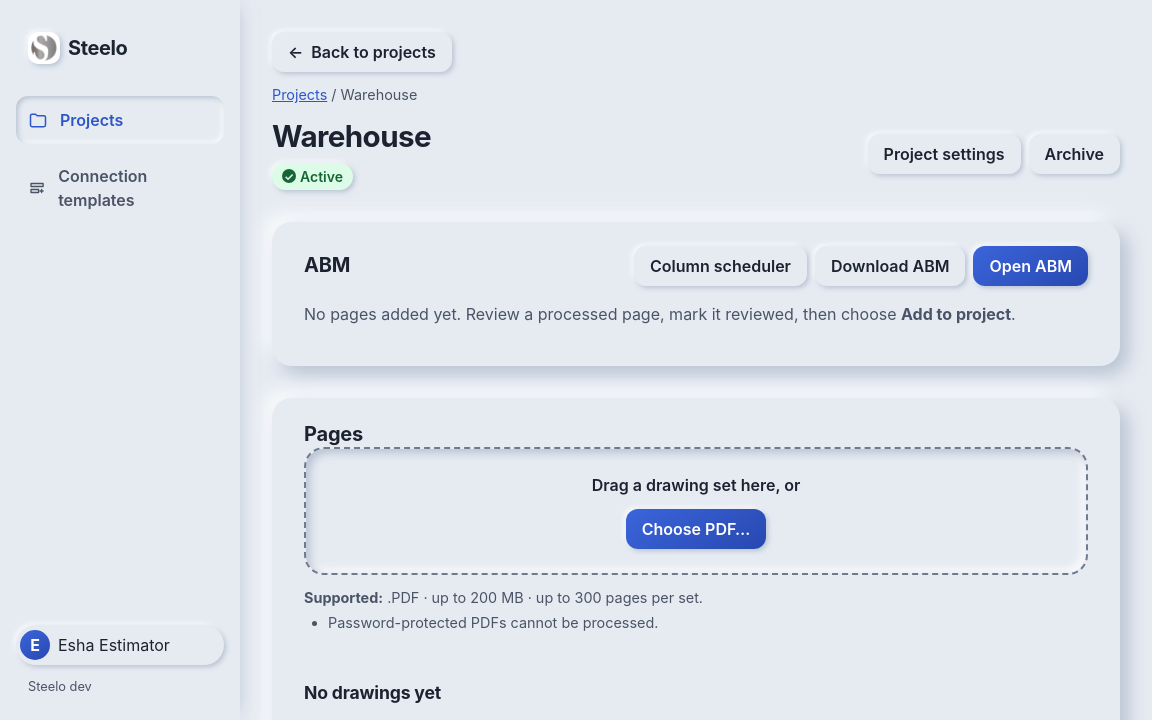
Project details › explains a conflicting edit and lets the user retry on the latest version
Step 1. Click the button "Project settings" → (944, 154), box [868,134,1020,174]
(page scrolled)
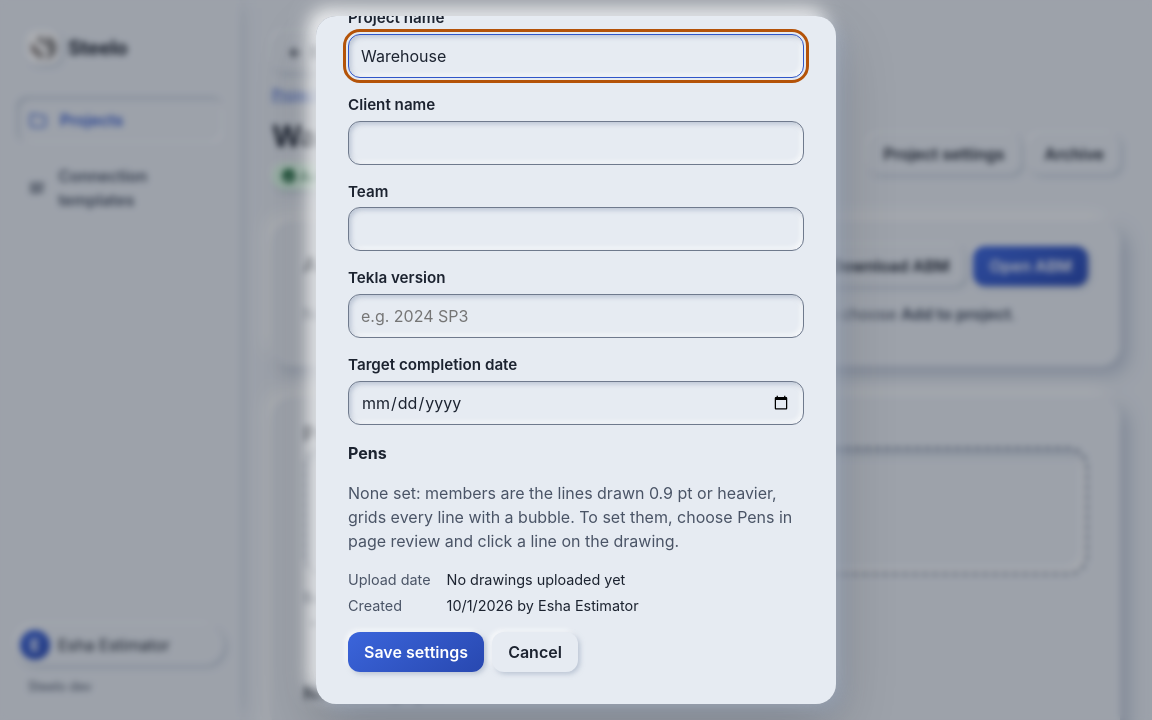
Step 2. Click the button "Save settings" → (416, 652), box [348,632,484,672]
(page scrolled)
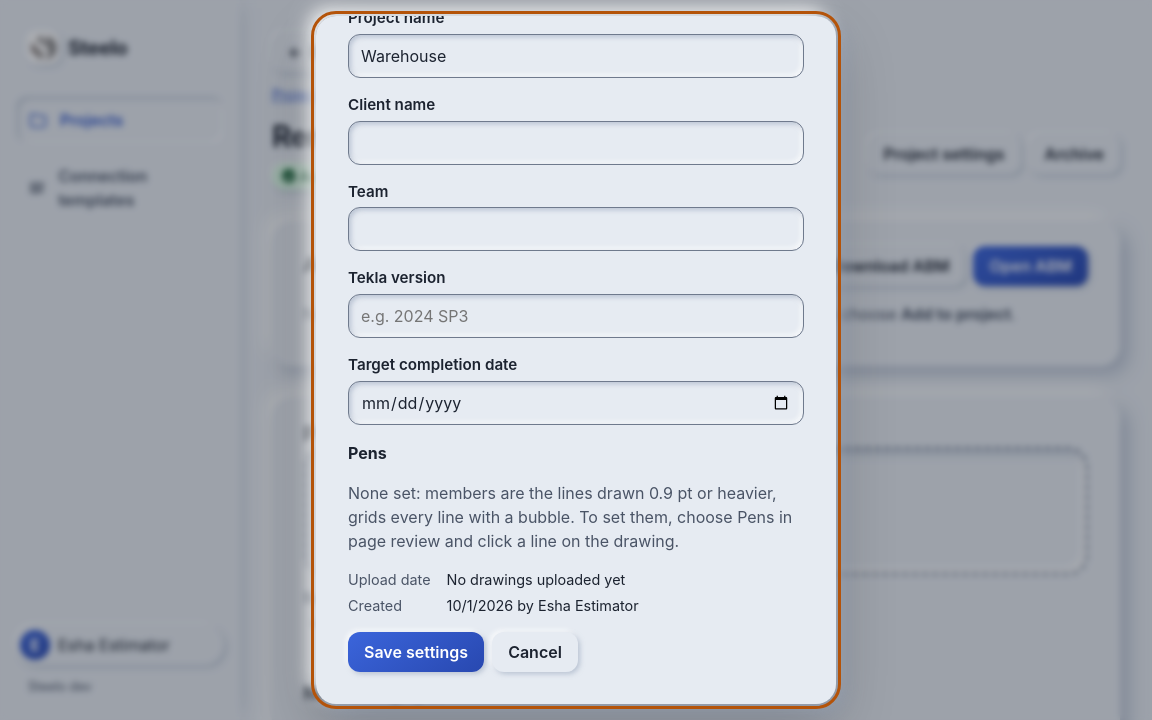
Step 3. Click the button "Save settings" → (416, 652), box [348,632,484,672]
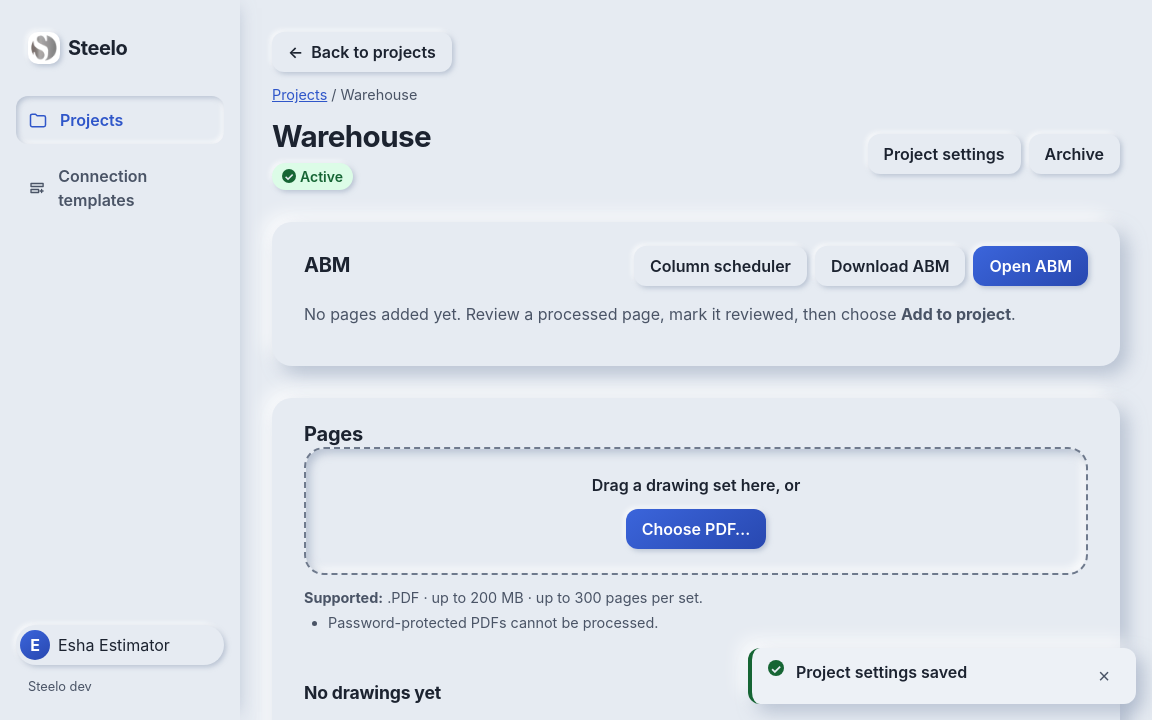
Now the dialog is gone
